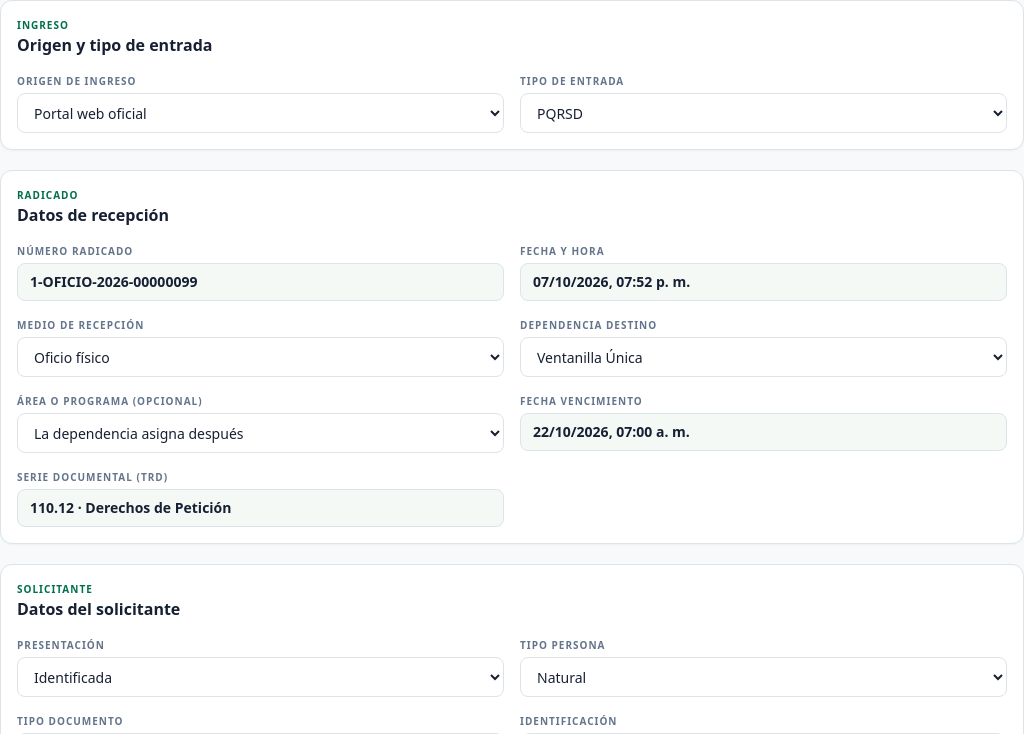
Test: Radicación dirigida — presentación anónima / identidad reservada › Identidad reservada mantiene los campos y avisa la protección
The width and height of the screenshot is (1024, 734).
Select "Identidad reservada" in the dropdown labelled "Presentación". click: [260, 677]
box: [17,657,504,697]
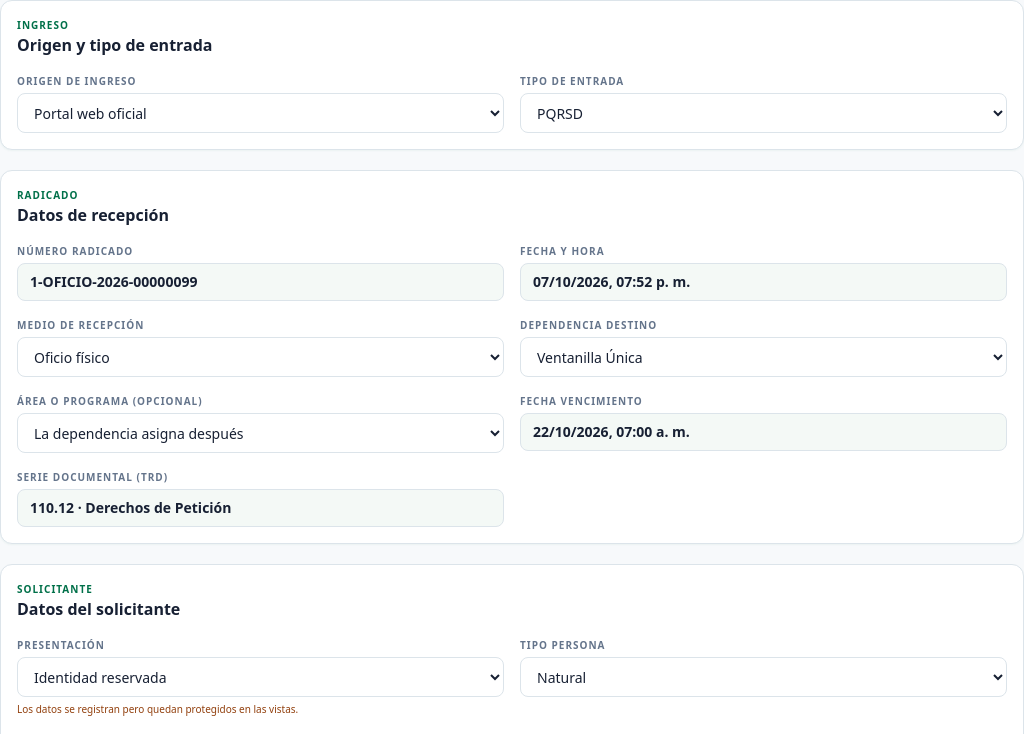
Expected: the text "Los datos se registran pero quedan protegidos en las vistas." is shown, [17,702,298,716]
